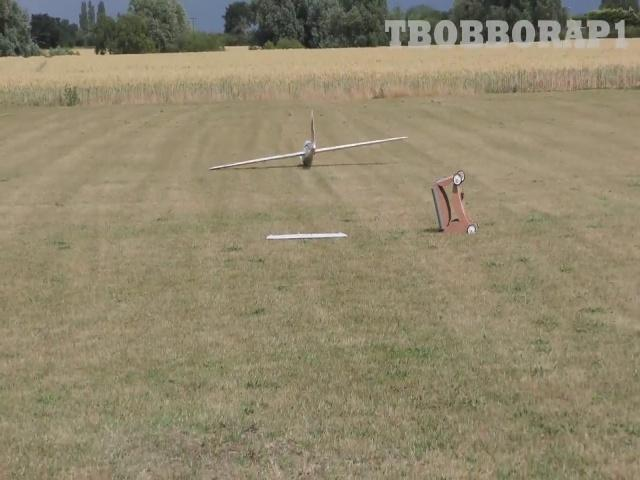Airplane: (209, 109, 408, 170)
